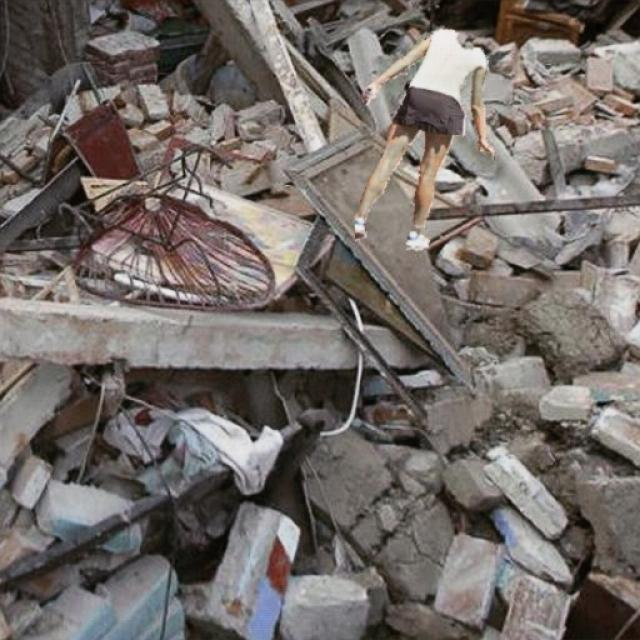Person in Rubble: (355, 29, 494, 250)
